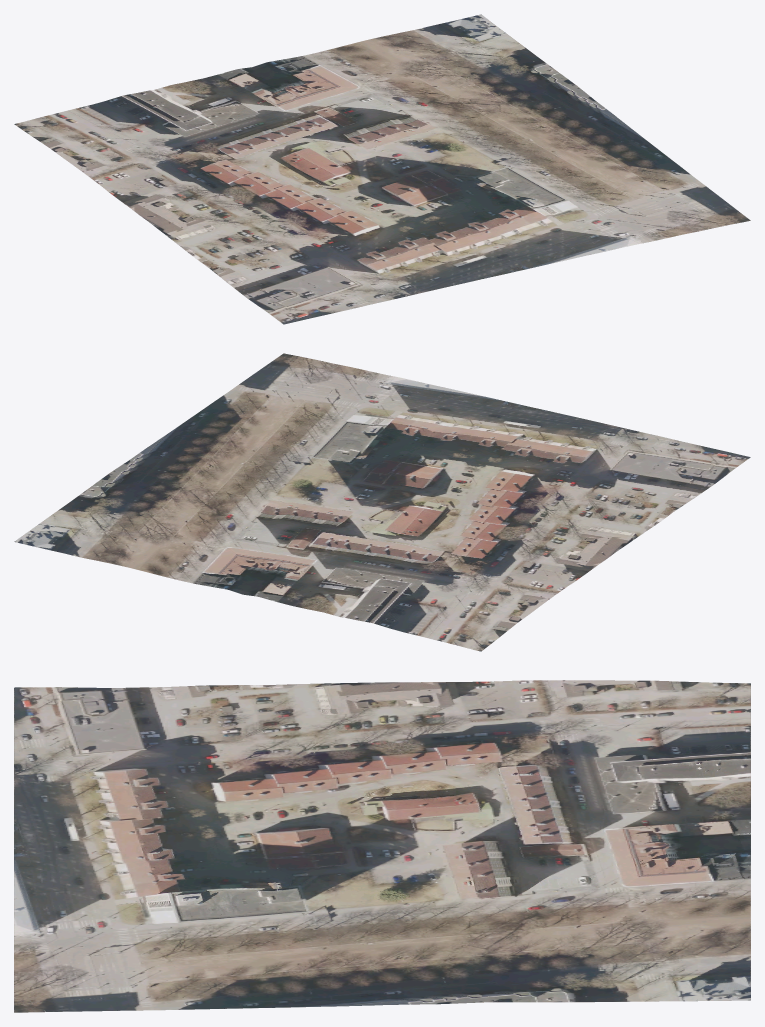
The model's file is CM_Terrain_24486568_6821227.fbx.
The picture shows the model from 3 angles, top to bottom: view 1: azimuth 30°, elevation 25°; view 2: azimuth 150°, elevation 25°; view 3: azimuth 270°, elevation 25°; orthographic projection. The views are drawn at different scales.
Parts seen in each view (by area): view 1: CM_Terrain_24486568_6821227_LOD0; view 2: CM_Terrain_24486568_6821227_LOD0; view 3: CM_Terrain_24486568_6821227_LOD0.
Boxes of the visible parts, left/top/right/bottom form: CM_Terrain_24486568_6821227_LOD0: left=14, top=14, right=750, bottom=324; CM_Terrain_24486568_6821227_LOD0: left=14, top=353, right=750, bottom=651; CM_Terrain_24486568_6821227_LOD0: left=14, top=680, right=750, bottom=1012.
Size of what is drawn, in the model's own units: 205 by 6.51 by 205.
